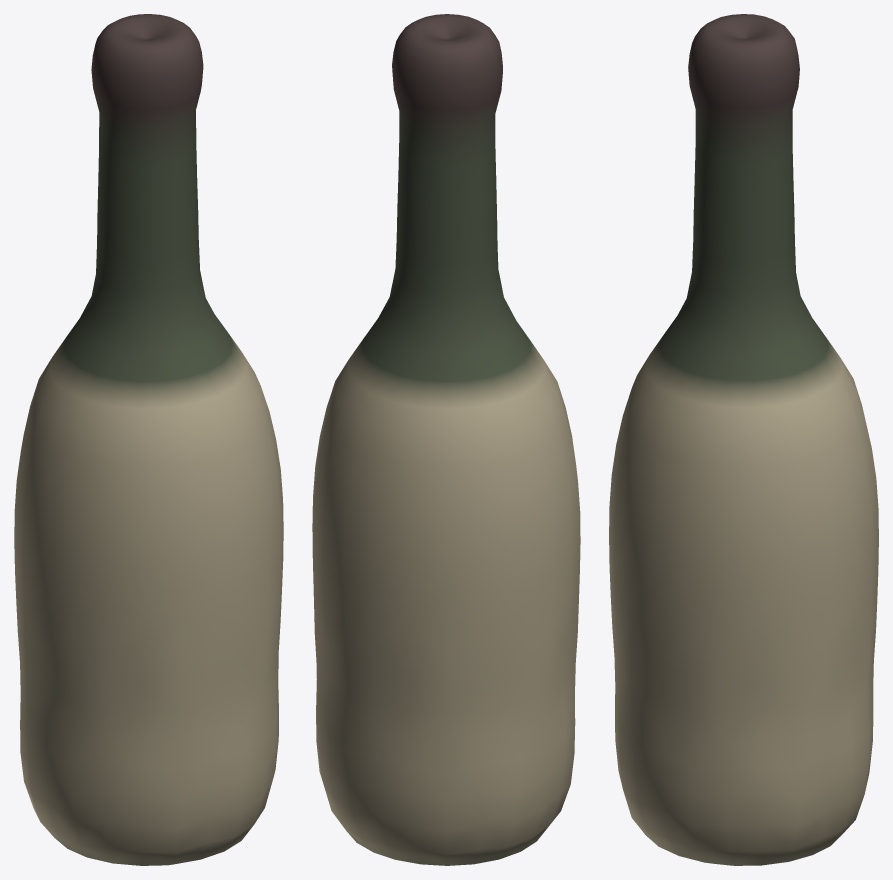
The model's file is 1botella.glb.
3 renders of one model, left to right at view 1: azimuth 30°, elevation 25°; view 2: azimuth 150°, elevation 25°; view 3: azimuth 270°, elevation 25°, orthographic.
Visible parts, largest first — view 1: PM3D_Plane3D1_PM3D_Plane3D1_0; view 2: PM3D_Plane3D1_PM3D_Plane3D1_0; view 3: PM3D_Plane3D1_PM3D_Plane3D1_0.
Part boxes in pixels (x1=…): PM3D_Plane3D1_PM3D_Plane3D1_0: x1=14, y1=14, x2=283, y2=865; PM3D_Plane3D1_PM3D_Plane3D1_0: x1=312, y1=14, x2=580, y2=865; PM3D_Plane3D1_PM3D_Plane3D1_0: x1=609, y1=14, x2=878, y2=865.
Size of the model in its own units: 0.0996 by 0.3301 by 0.1004.
